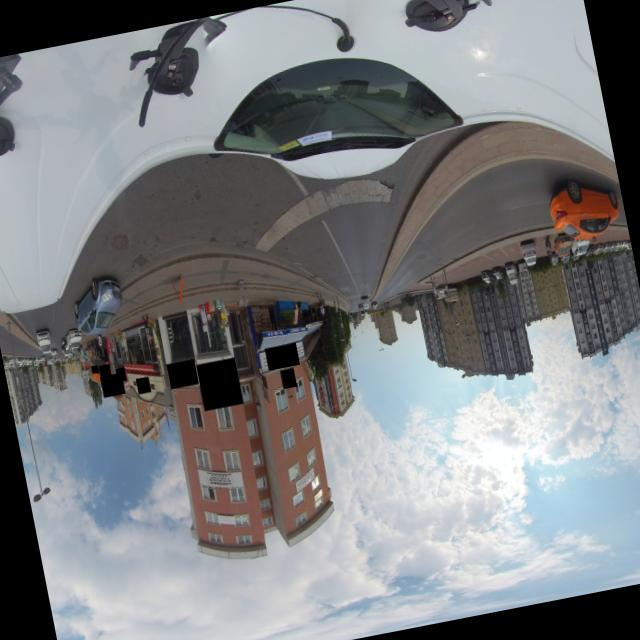SignStore: (199, 380, 243, 407), (195, 359, 238, 384), (264, 342, 298, 370), (165, 362, 198, 383), (99, 376, 125, 393), (280, 367, 295, 388), (135, 378, 150, 391), (98, 365, 111, 377), (114, 368, 126, 380), (90, 365, 98, 372)
